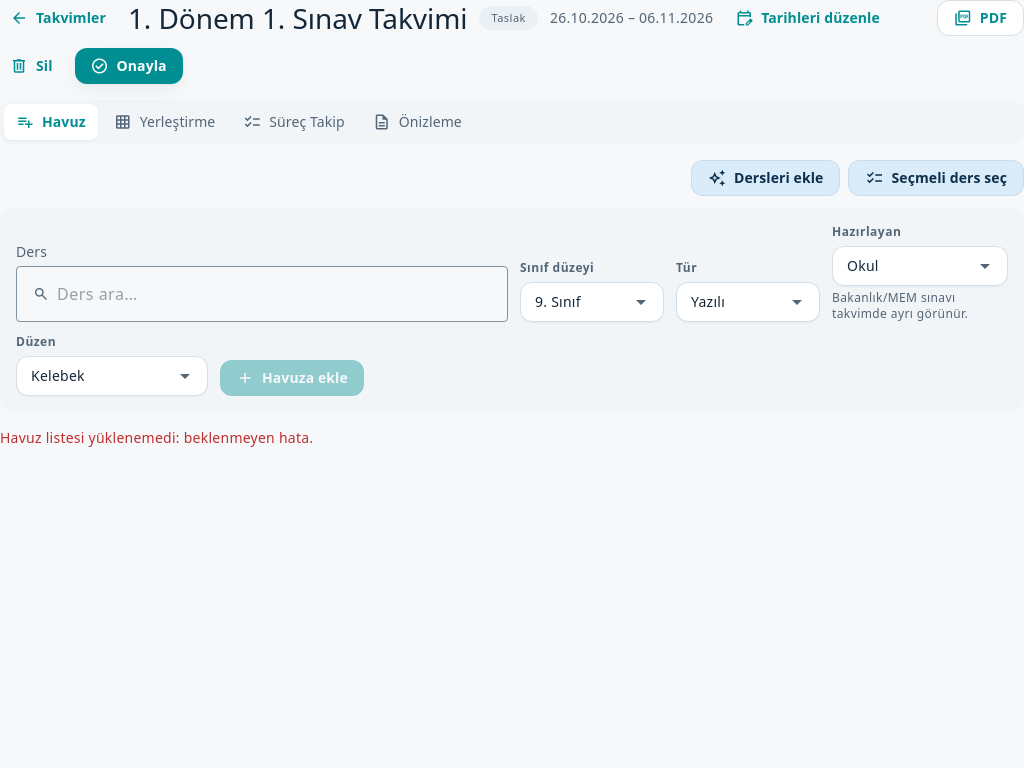
Test: TakvimDetayPage — onay akışı › taslak takvim silme onayında başlık ile gövde ayrı cümlelerdir
Click the button "Sil" at (31, 66), box [0, 48, 63, 84]
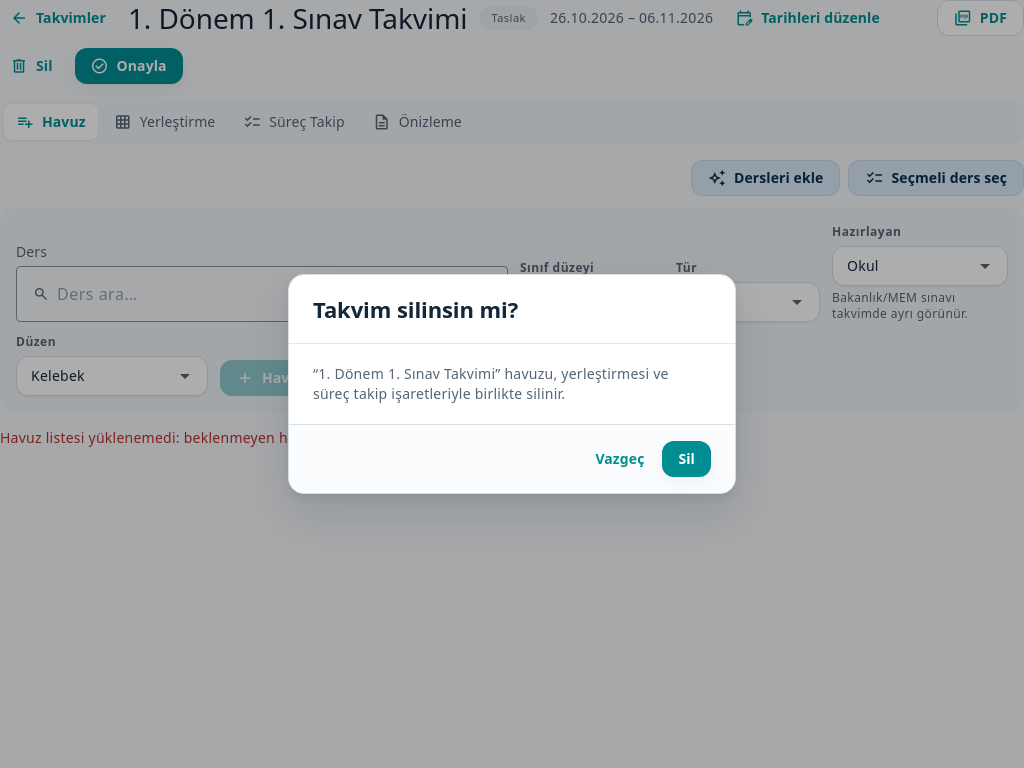
expect the text "birlikte silinir" is shown: met, box [313, 364, 669, 403]
Click the button "Sil" at (687, 459), box [662, 441, 711, 477]
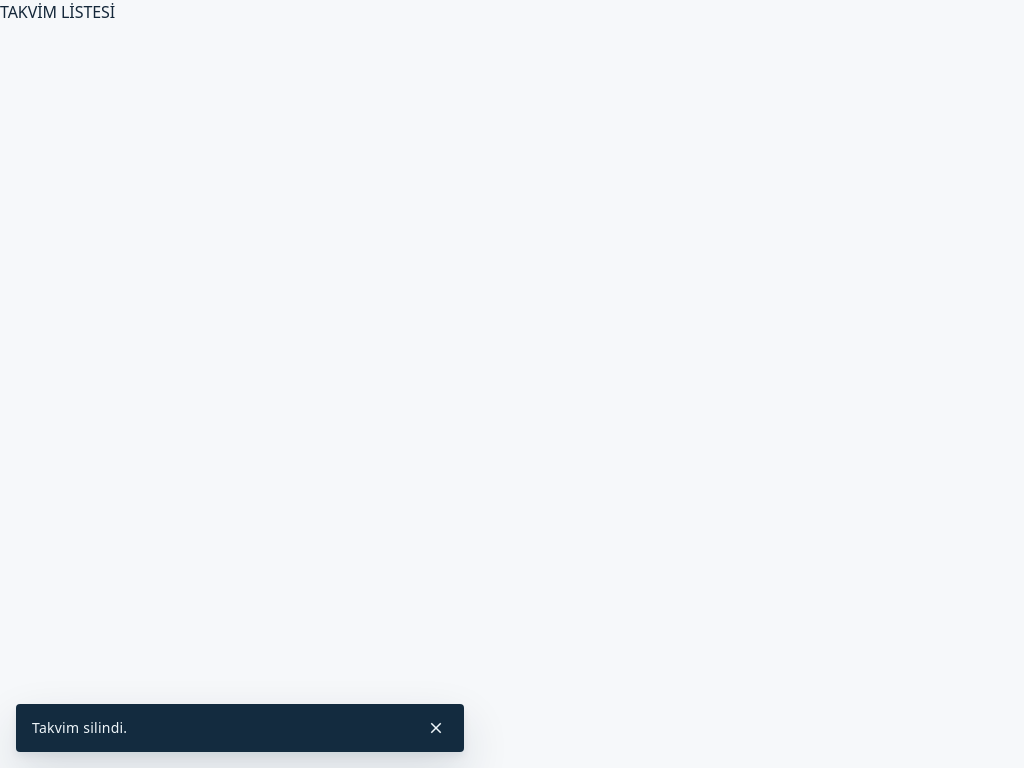
expect the text "TAKVİM LİSTESİ" is shown: met, box [0, 1, 115, 23]
